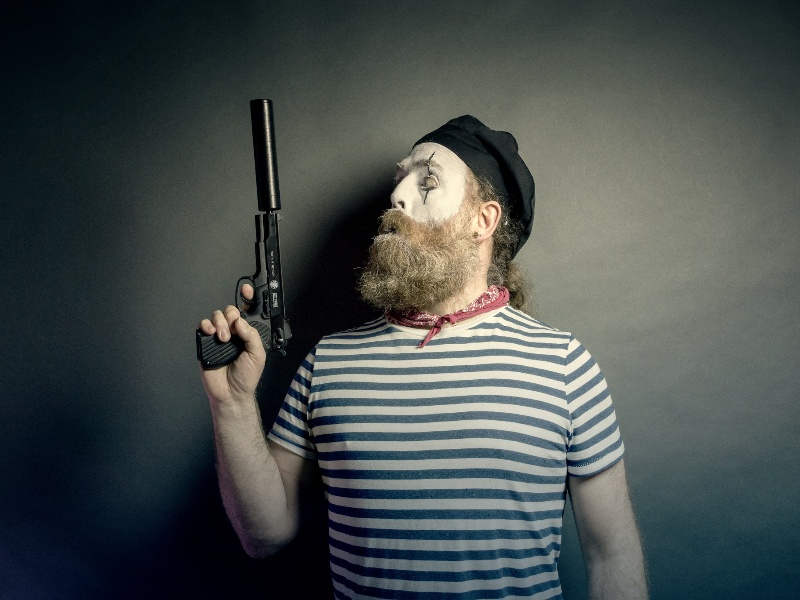person: (201, 115, 648, 600)
weapon: (197, 99, 293, 369)
